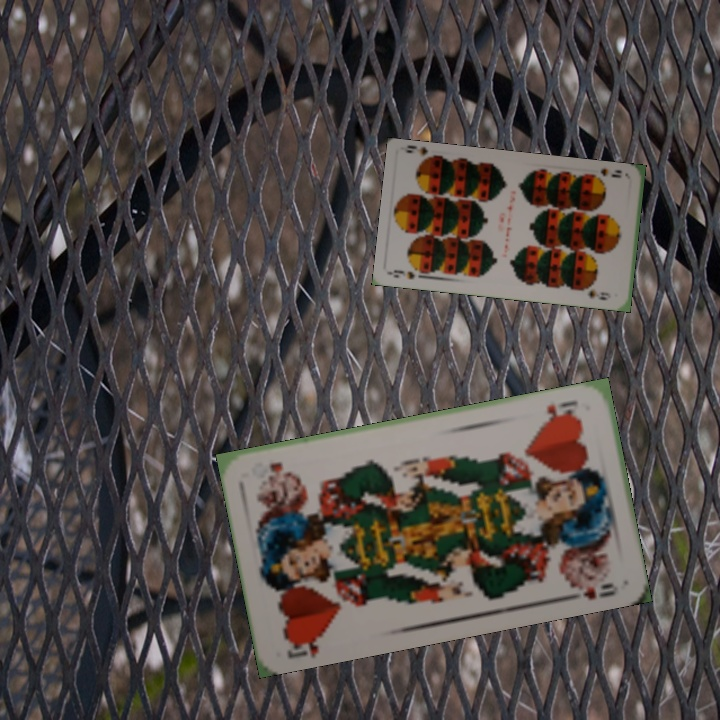HO: (280, 630, 326, 661), (537, 397, 580, 425)
S9: (588, 164, 624, 183), (388, 265, 428, 282)
